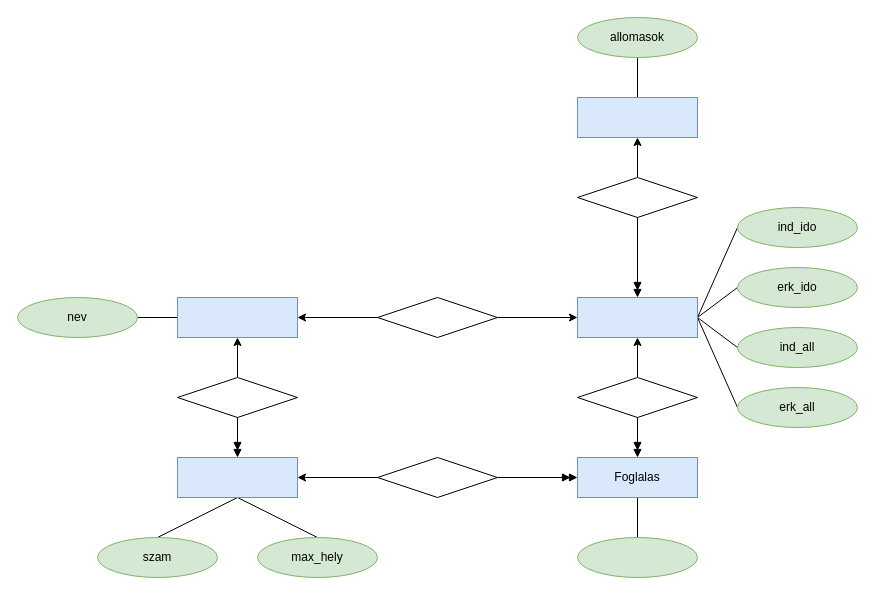
The diagram is 875 pixels wide and 595 high, and some of its shapes have lost their labels. Here are the shapes that lost their labels. From the top down, the centre of each, then its label:
At (x=637, y=117): "Máv".
At (x=237, y=317): "Vonat".
At (x=637, y=317): "Jarat".
At (x=237, y=477): "Kocsi".
At (x=637, y=557): "kiir".
